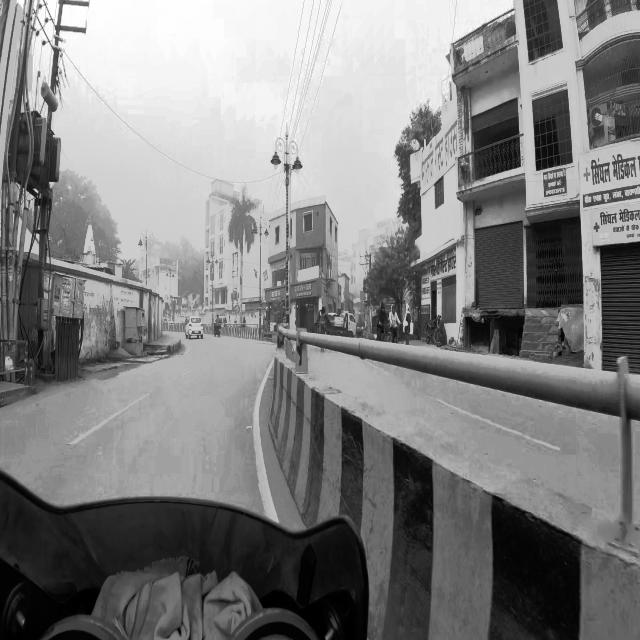Car: (184, 314, 204, 340)
LCV: (327, 306, 358, 339)
